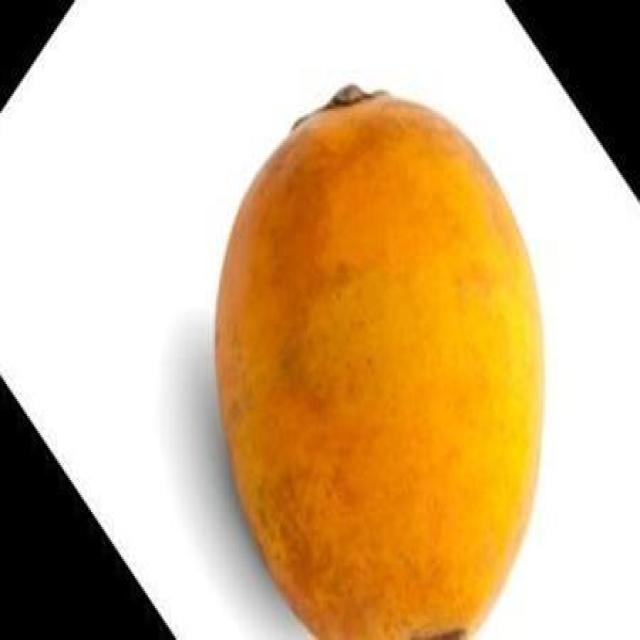good: (212, 87, 549, 638)
